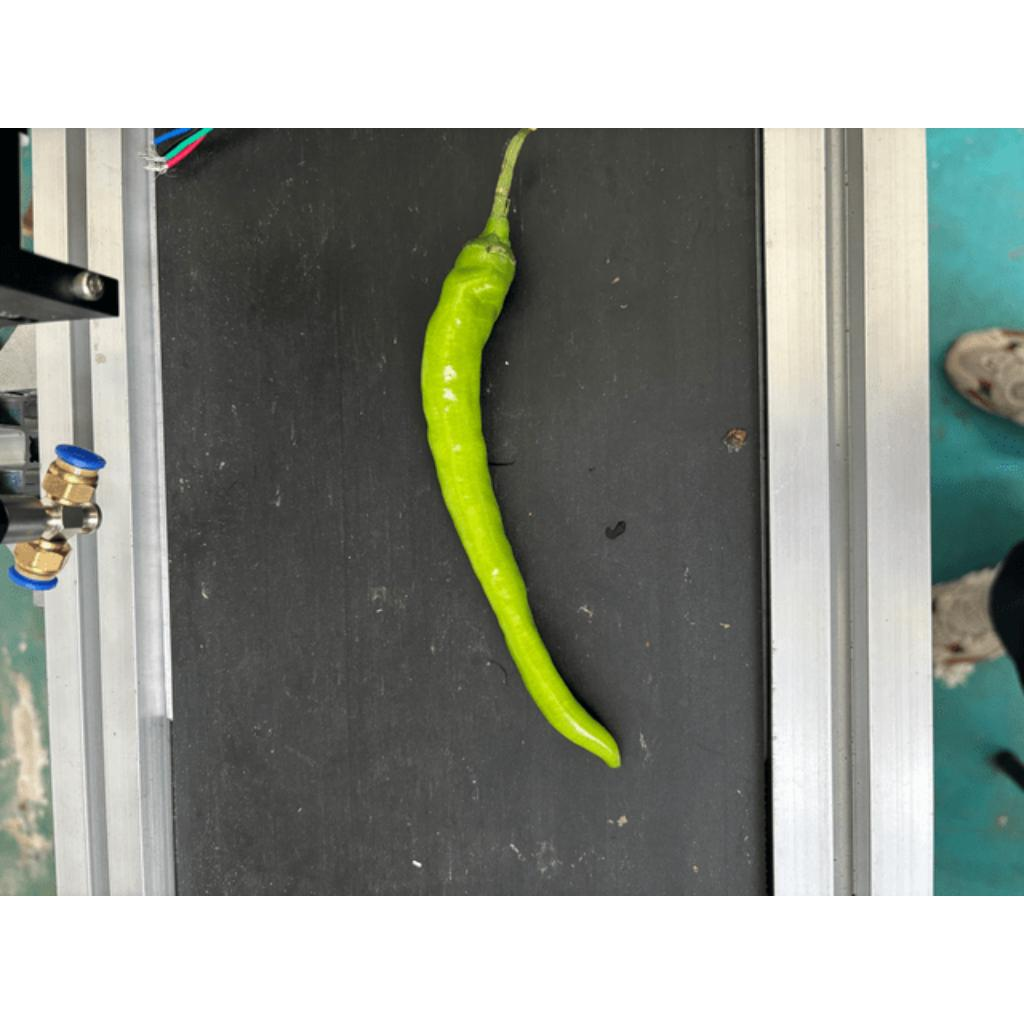chili: (419, 227, 624, 774)
